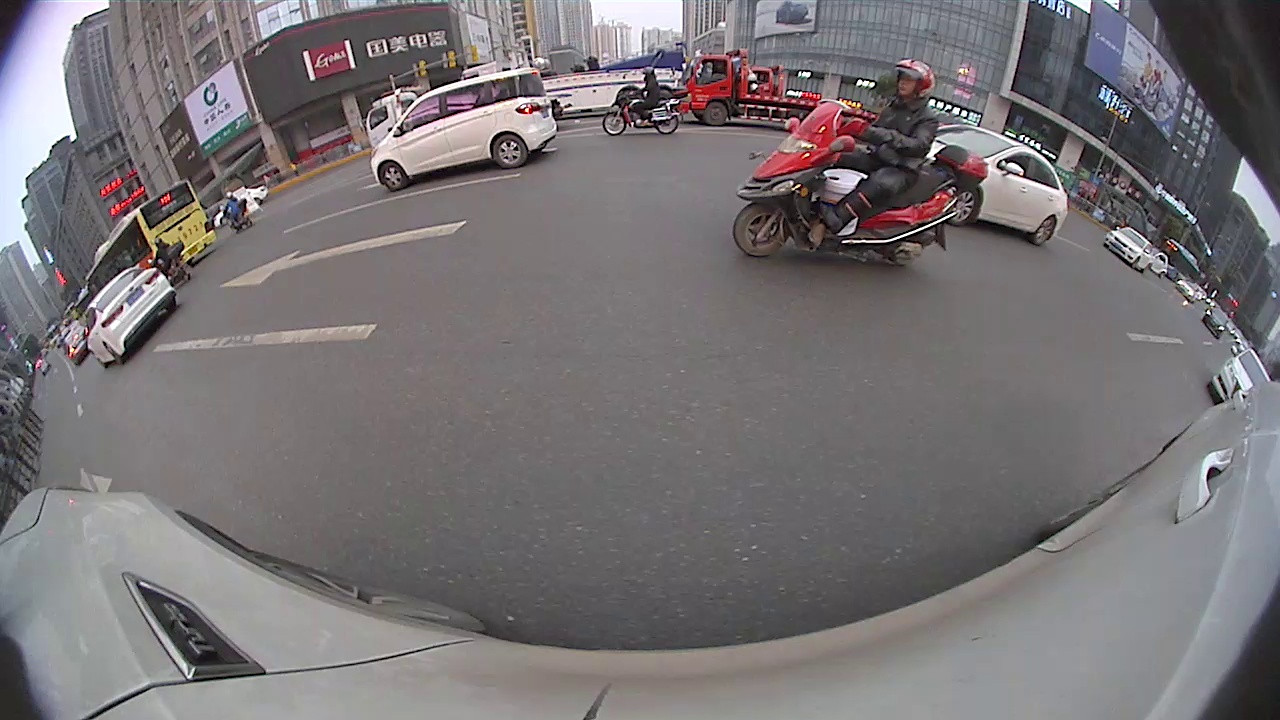bus: (84, 172, 217, 299)
car: (368, 67, 559, 199), (910, 124, 1073, 251), (80, 260, 176, 369), (1208, 344, 1276, 416), (1102, 227, 1159, 271)
front: (733, 202, 789, 259), (948, 187, 979, 228), (379, 162, 410, 193), (601, 111, 628, 138), (703, 102, 728, 128)
rear: (492, 134, 528, 171), (1033, 214, 1058, 247), (656, 115, 680, 135)
rider: (731, 61, 990, 271), (607, 63, 693, 138), (219, 192, 251, 234)
truck: (673, 49, 888, 138)
